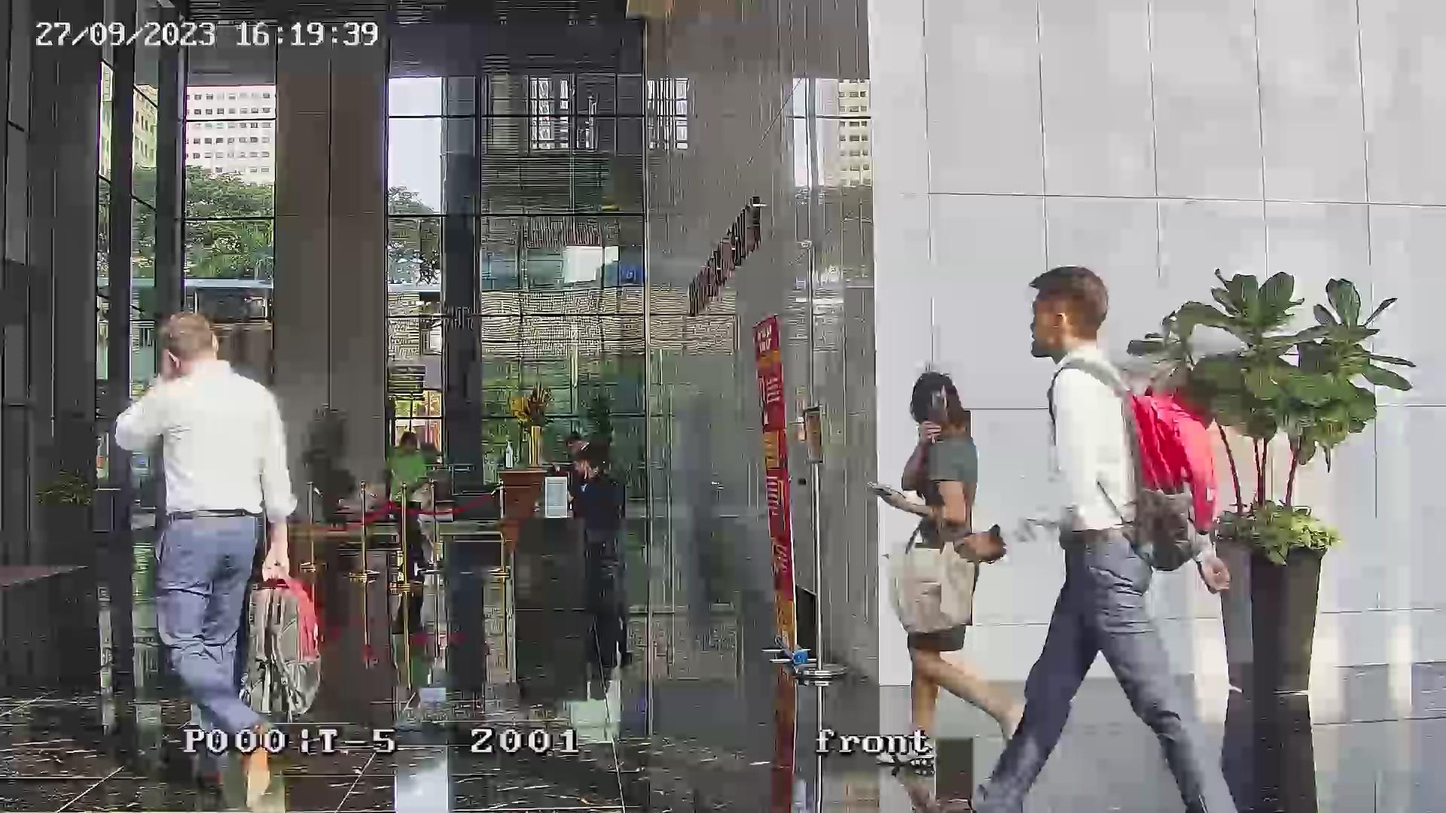person: (971, 266, 1237, 811), (113, 309, 297, 768), (870, 371, 1030, 792), (386, 432, 434, 575), (571, 453, 616, 532), (564, 430, 596, 457)
